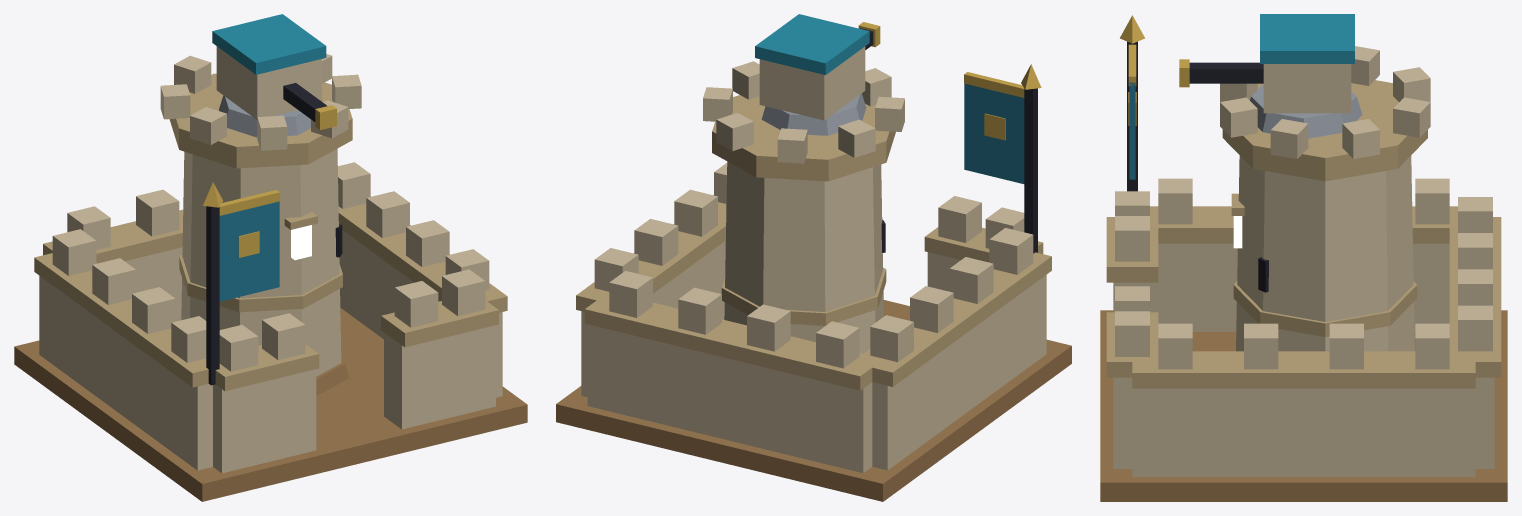
File: outpost_t1.glb
3 views of the same model, side by side, from view 1: azimuth 30°, elevation 25°; view 2: azimuth 150°, elevation 25°; view 3: azimuth 270°, elevation 25° (orthographic). The views are drawn at different scales.
Visible parts, largest first — view 1: body, part_turret, glow; view 2: body, part_turret; view 3: body, part_turret.
Boxes of the visible parts, x1,y1,x2,y2 form: body: [14, 54, 527, 501]; part_turret: [212, 14, 336, 137]; glow: [291, 225, 311, 260]; body: [556, 61, 1071, 501]; part_turret: [755, 14, 880, 135]; body: [1100, 15, 1507, 501]; part_turret: [1179, 14, 1362, 138].
Bounding box in the file's own units: 1.9 × 1.97 × 1.9.
